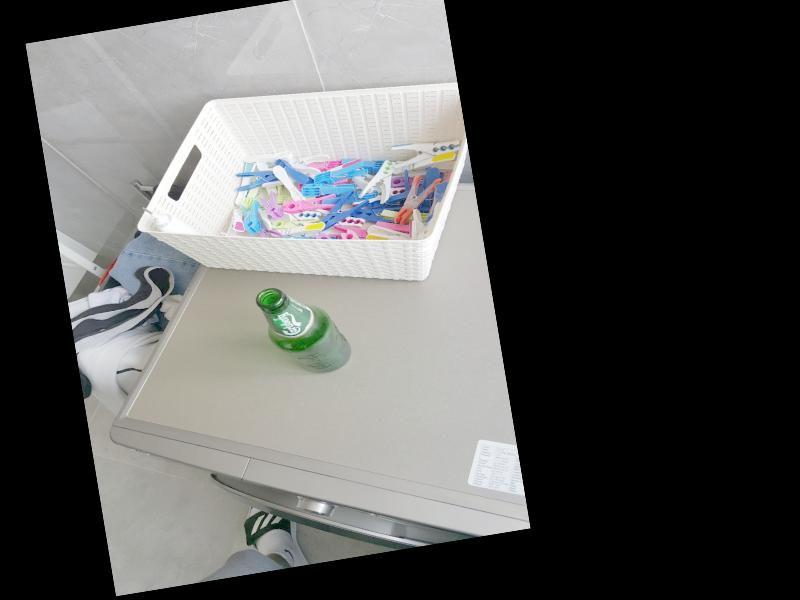Beer: (253, 279, 352, 383)
